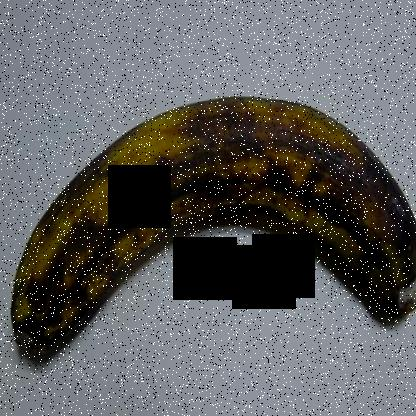overripe: (4, 76, 415, 386)
